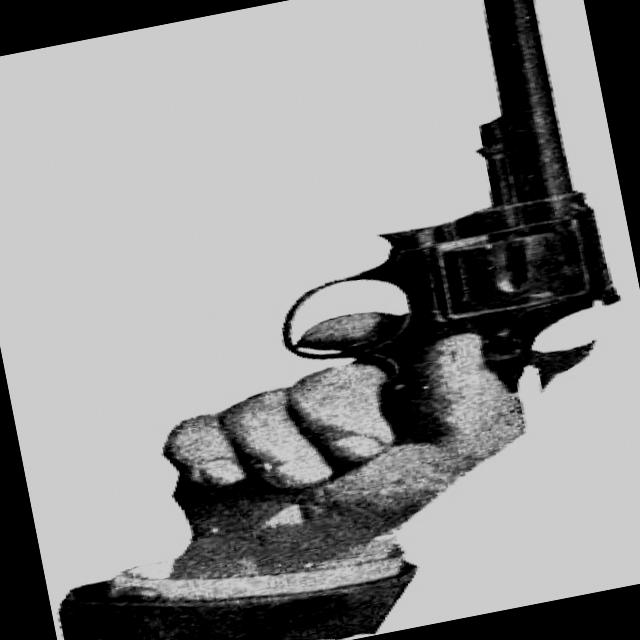handgun: (75, 0, 639, 522)
